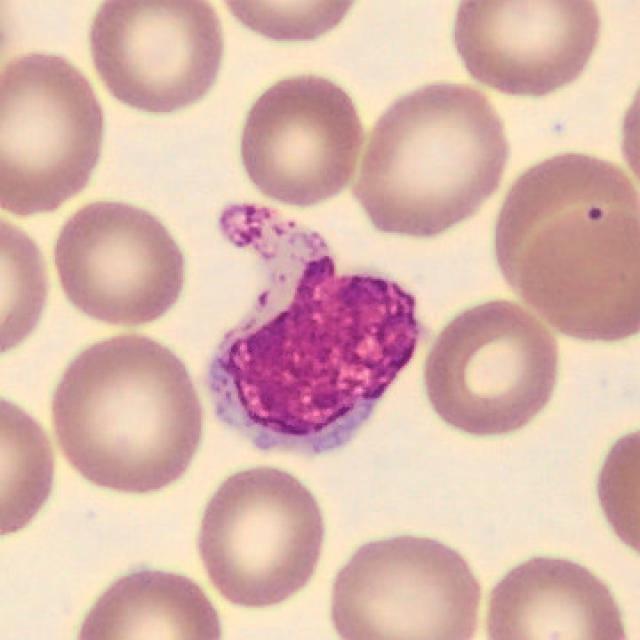Monocito: (210, 206, 418, 448)
